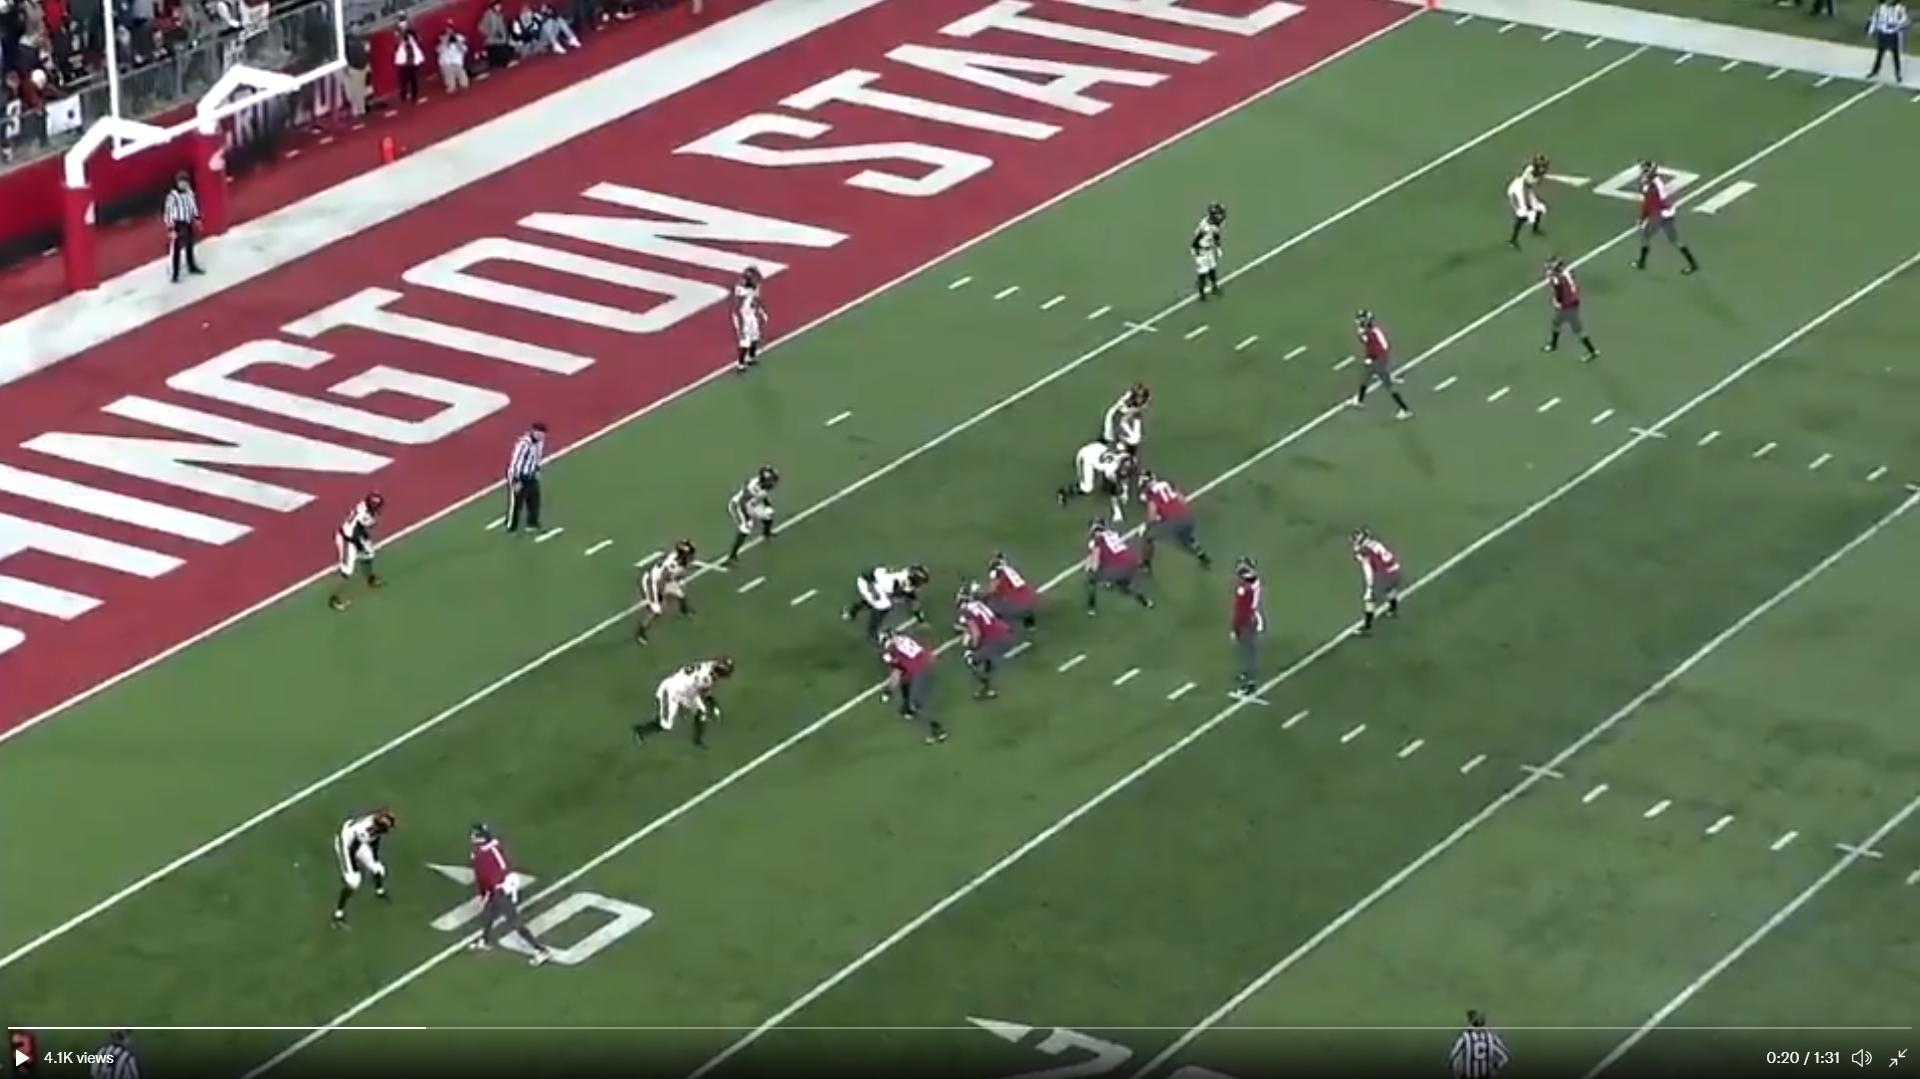player: (453, 819, 547, 958), (628, 655, 732, 754), (1625, 157, 1702, 285), (328, 804, 400, 929), (877, 626, 950, 748), (1338, 305, 1412, 424), (1125, 471, 1203, 574), (962, 580, 1029, 697), (634, 534, 703, 645), (1539, 255, 1606, 369), (1078, 517, 1150, 620), (721, 461, 789, 563), (1228, 553, 1273, 706), (1100, 377, 1160, 491), (845, 561, 929, 642), (331, 490, 387, 604), (1501, 147, 1561, 253), (1058, 440, 1135, 521), (1355, 527, 1408, 637), (983, 549, 1041, 642), (729, 259, 773, 378), (1185, 197, 1232, 308)
ref: (505, 421, 566, 549), (162, 173, 212, 294), (1865, 0, 1918, 93)
